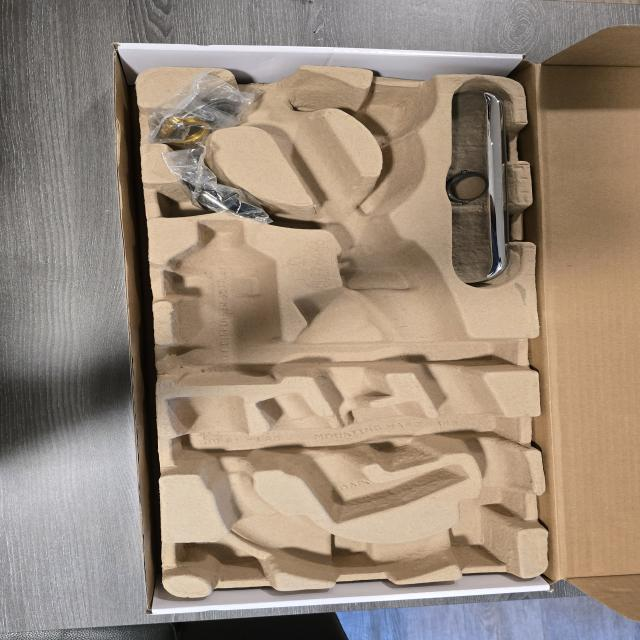1m: (166, 67, 525, 583)
2m: (256, 394, 469, 521)
3m: (167, 221, 280, 386)
4: (446, 90, 510, 282)
5m: (362, 91, 429, 138)
6: (150, 71, 262, 145)
7: (165, 148, 276, 223)
